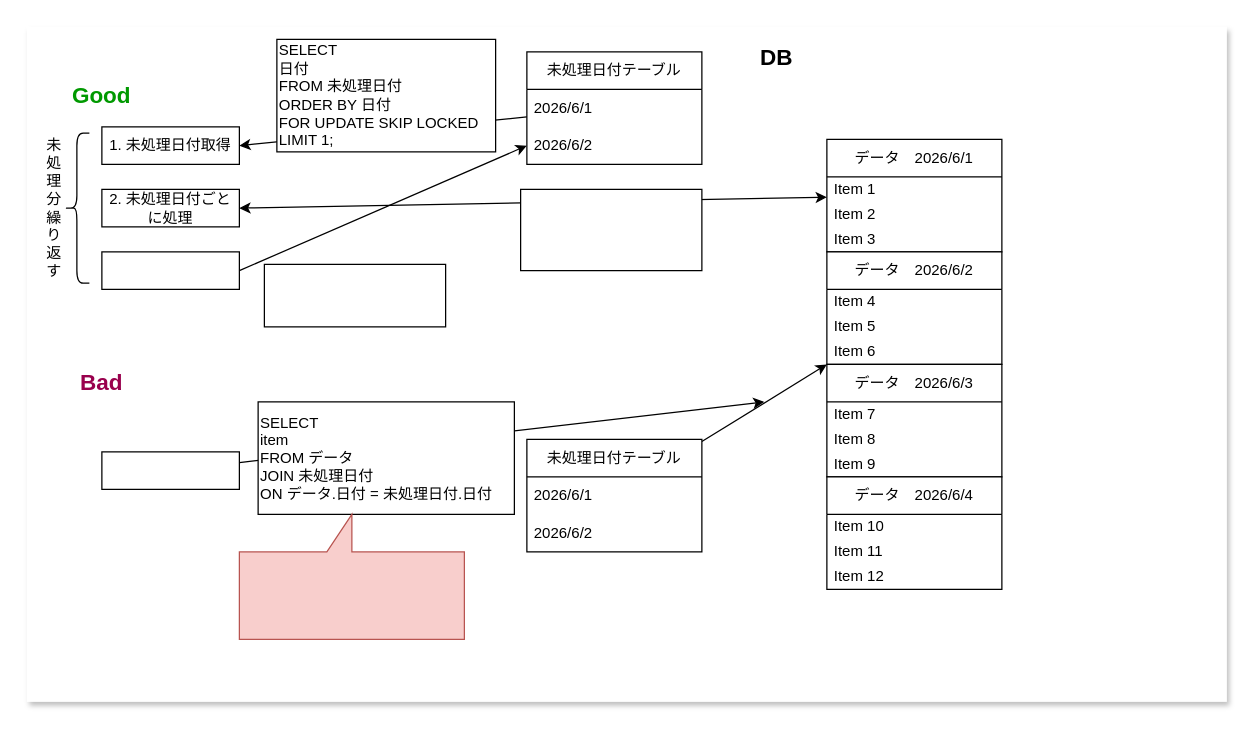
Some shapes in this 1255 by 731 pixel diagram are drawn without their labels. Each missing label, with the centre of its shape:
"3. 未処理日付ごとに処理" goes at (170,270).
"SELECT item FROM データ WHERE 日付 = '{date}';" goes at (610,229).
"UPDATE 未処理日付 SET status = 完了 WHERE 日付 = '{date}';" goes at (354,295).
"一括処理" goes at (170,470).
"計画の段階でどのパーティションを使えばよいか分からないので、全パーティション持ってきてから結合されがち。" goes at (351,576).
